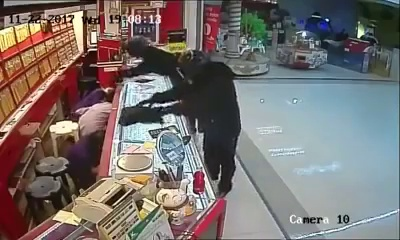helmet: (175, 46, 208, 84), (124, 32, 149, 57)
